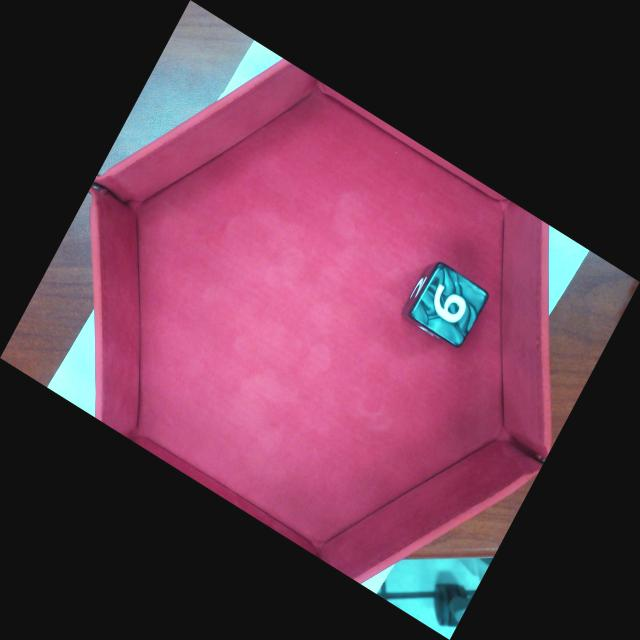dice: (410, 263, 489, 348)
